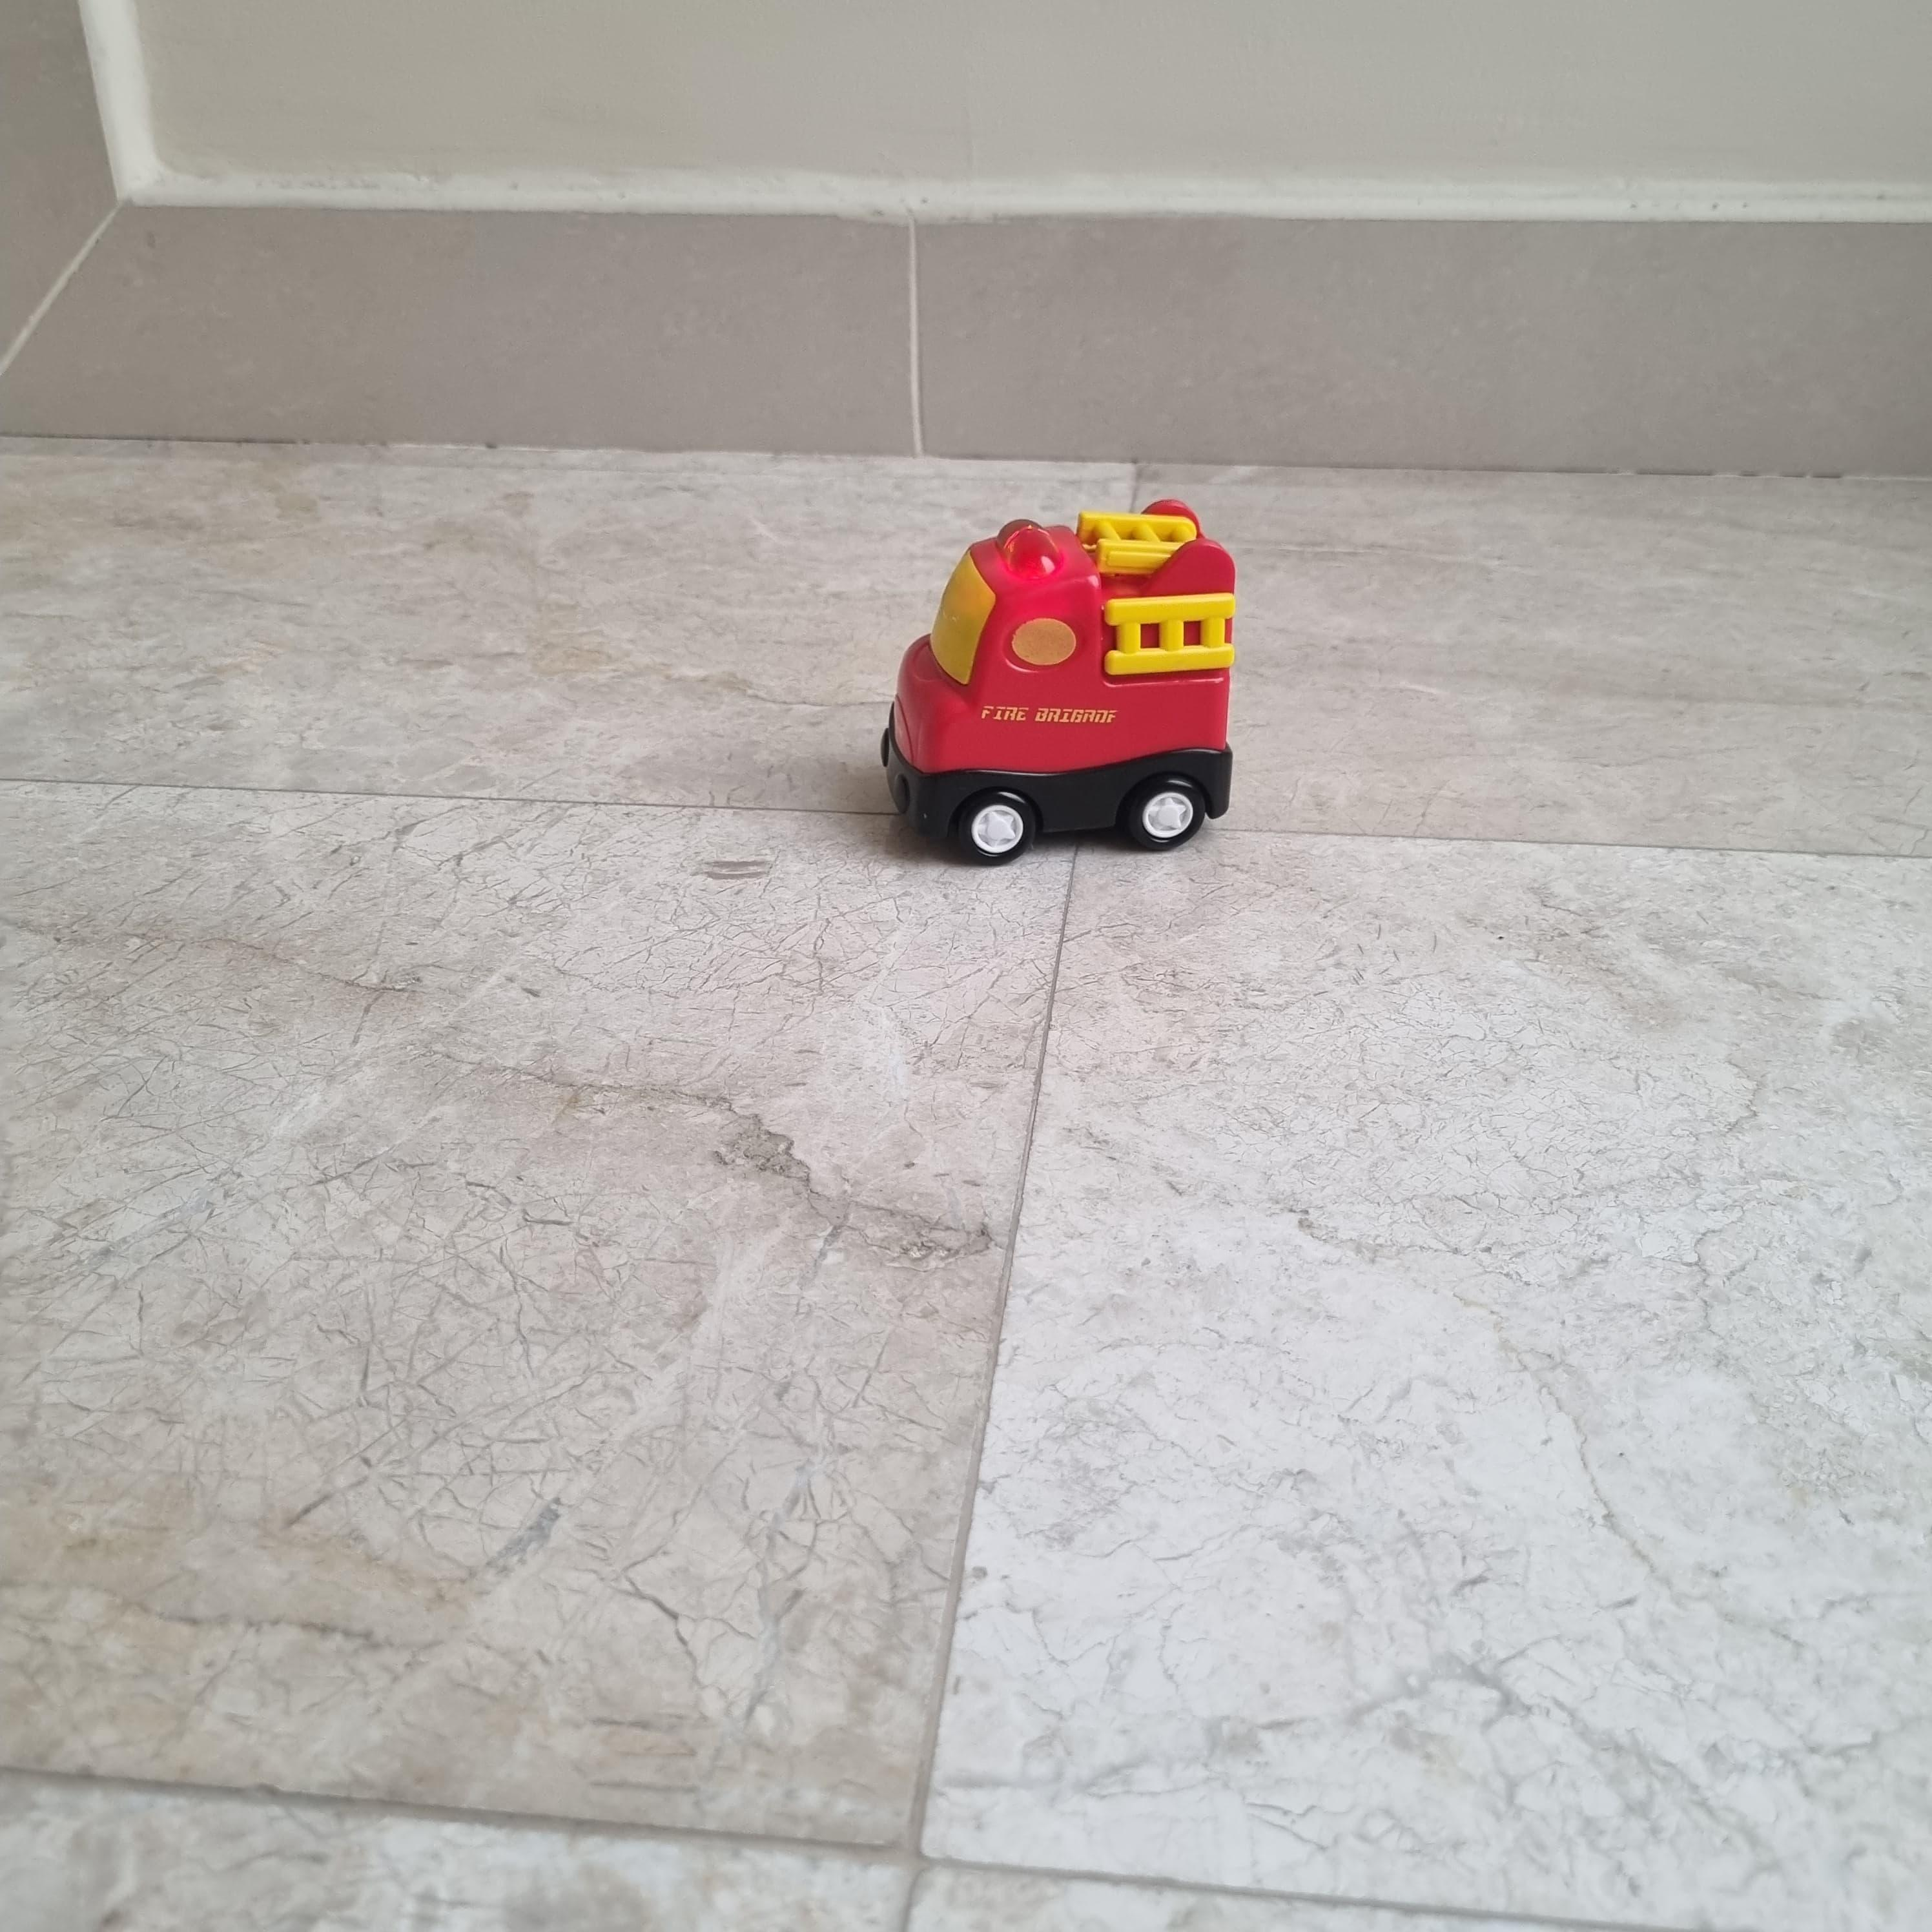firetruck_on: (879, 501, 1230, 867)
